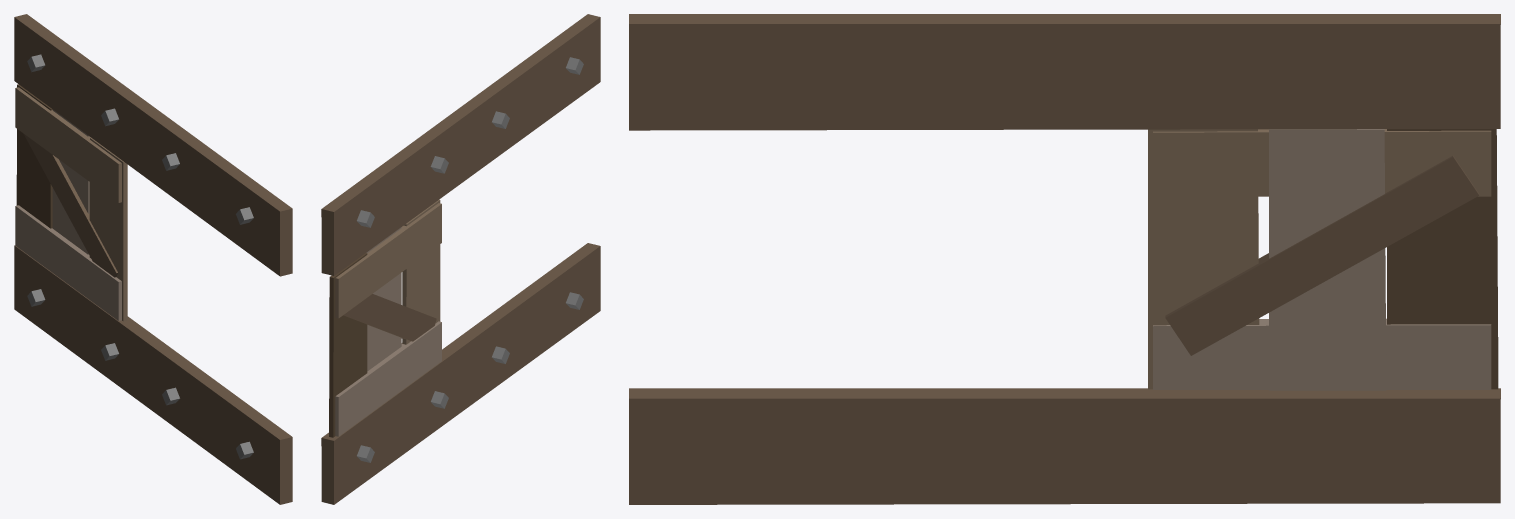
The model's file is EA03_Prop_House_Shutter_01d.glb.
3 renders of one model, left to right at view 1: azimuth 30°, elevation 25°; view 2: azimuth 150°, elevation 25°; view 3: azimuth 270°, elevation 25°, orthographic. The views are drawn at different scales.
Visible parts, largest first — view 1: EA03_Prop_House_Shutter_01d; view 2: EA03_Prop_House_Shutter_01d; view 3: EA03_Prop_House_Shutter_01d.
Part boxes in pixels (left/top/right/bottom): EA03_Prop_House_Shutter_01d: left=14, top=14, right=292, bottom=504; EA03_Prop_House_Shutter_01d: left=321, top=14, right=600, bottom=504; EA03_Prop_House_Shutter_01d: left=629, top=14, right=1500, bottom=504.
Size of the model in its own units: 0.1051 by 1.32 by 2.17.
1 material, 1 textured.
